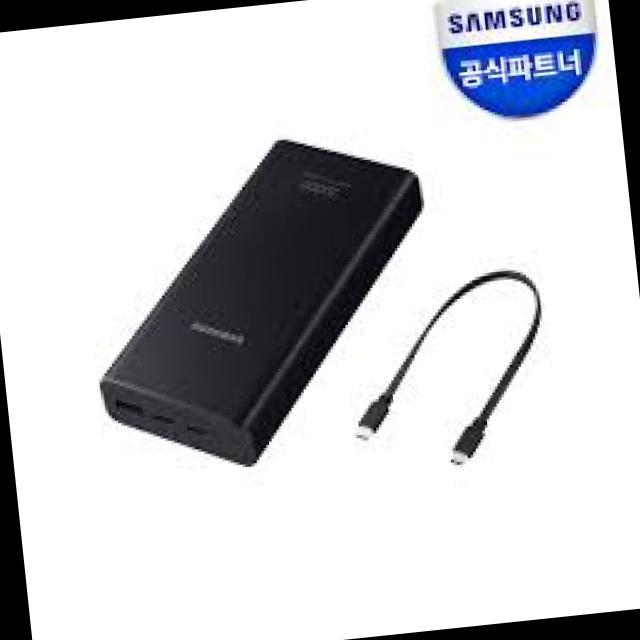power_bank: (68, 123, 454, 482)
